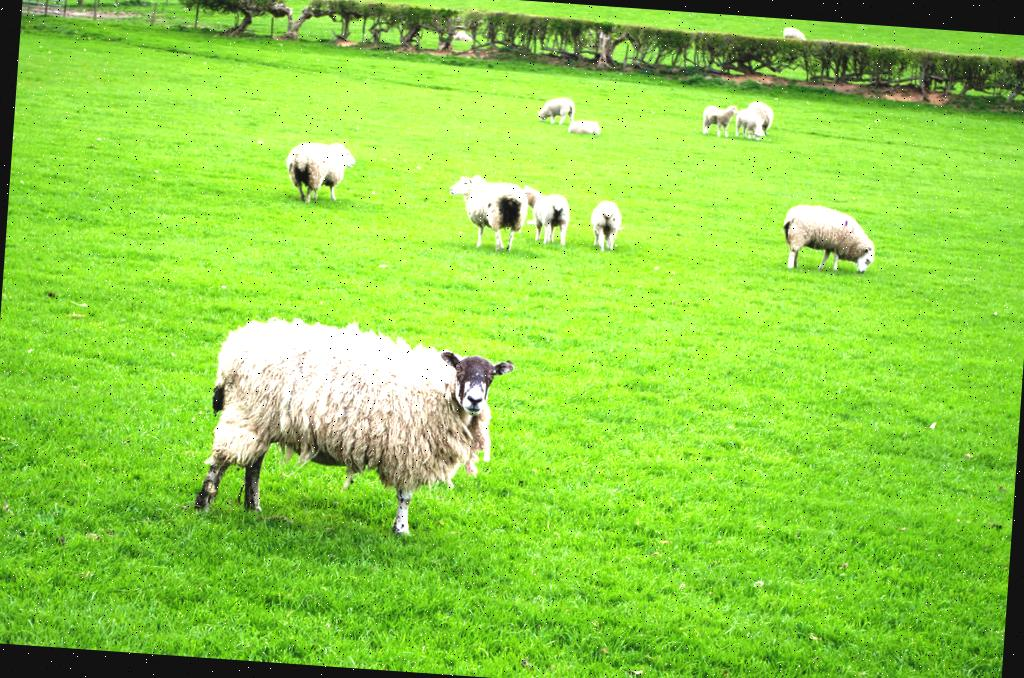Sheep: (188, 305, 517, 545), (780, 202, 881, 275), (446, 173, 532, 250), (287, 140, 355, 206), (521, 185, 571, 240), (590, 201, 620, 248), (536, 98, 576, 125), (702, 105, 738, 135), (733, 107, 764, 139), (751, 98, 775, 122), (572, 119, 599, 136), (784, 30, 804, 40)
